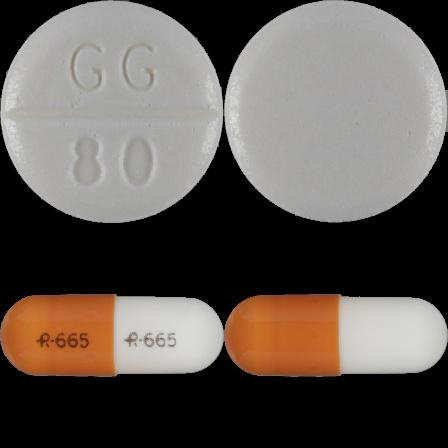76237-163: (0, 0, 224, 224)
